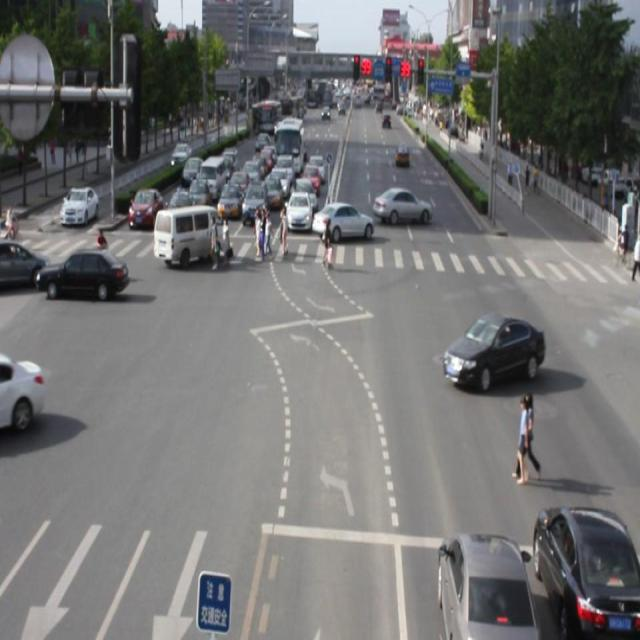car: (523, 495, 640, 640), (429, 524, 530, 640), (443, 310, 543, 388), (37, 248, 129, 298)
truck: (154, 203, 229, 262)
